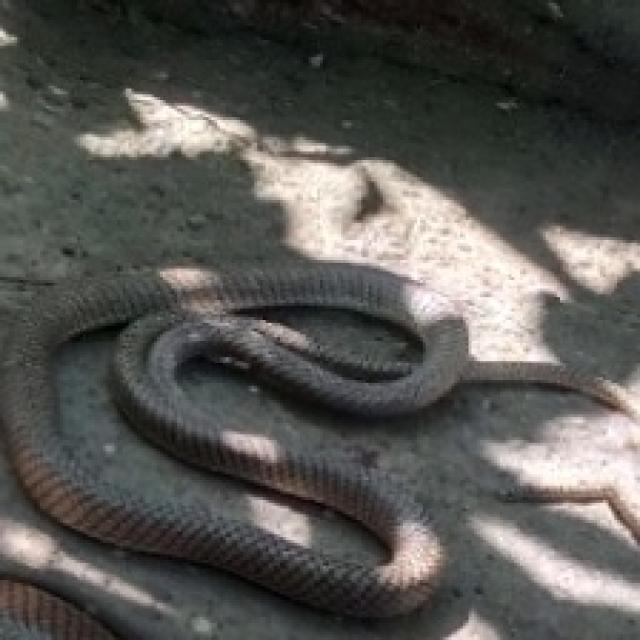paradise tree snake: (0, 271, 437, 614), (220, 263, 411, 320)
